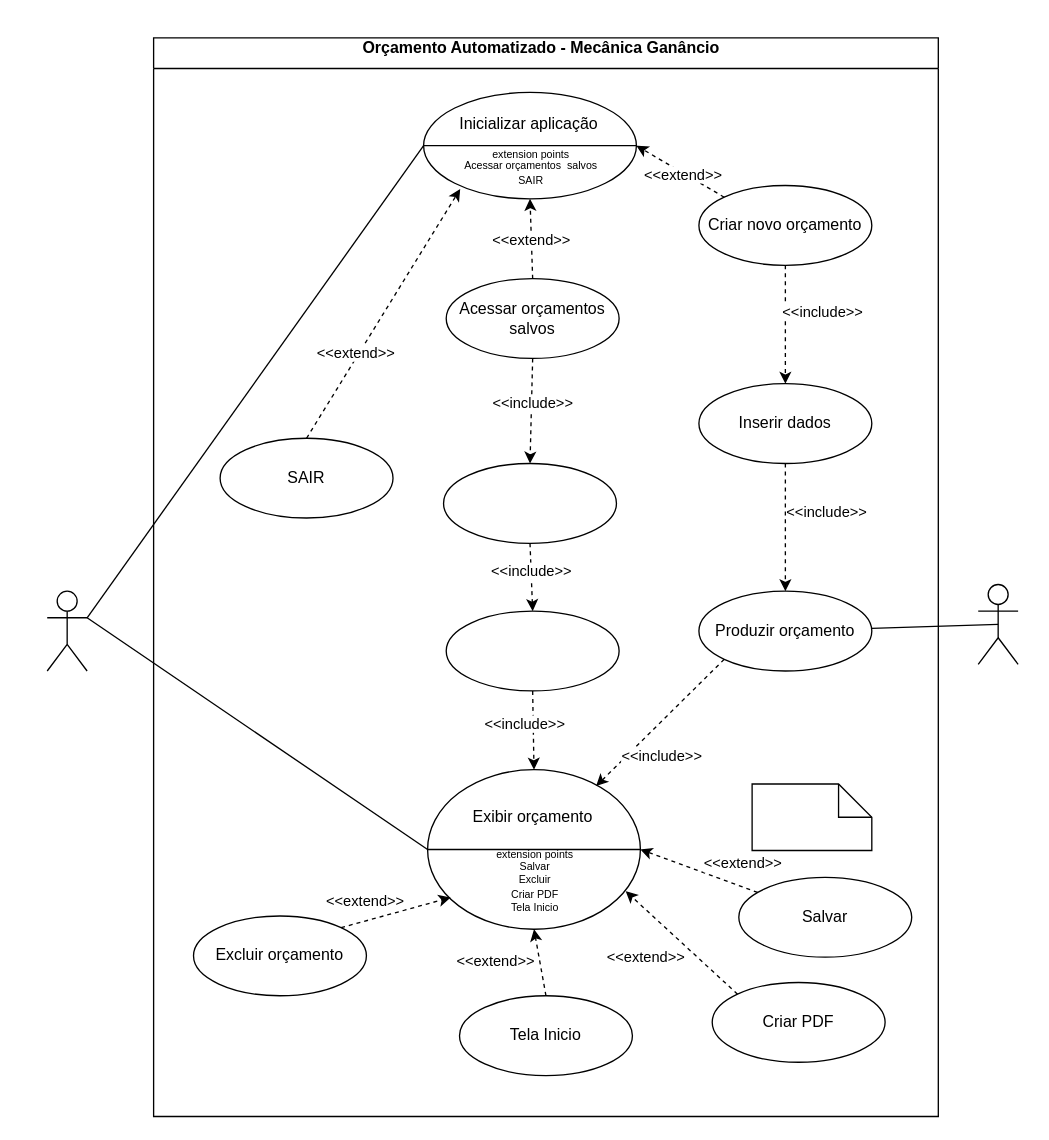
The diagram is 1049 pixels wide and 1140 high, and some of its shapes have lost their labels. The shapes that lost their labels are listed below. From the top down, each one's centre as x and y in pixels, then its label:
point (529, 502): Pesquisar Orçamentos
point (66, 630): Funcionário
point (997, 623): Sistema
point (532, 650): Selecionar Orçamento
point (811, 817): Caso seja novo orçamento
